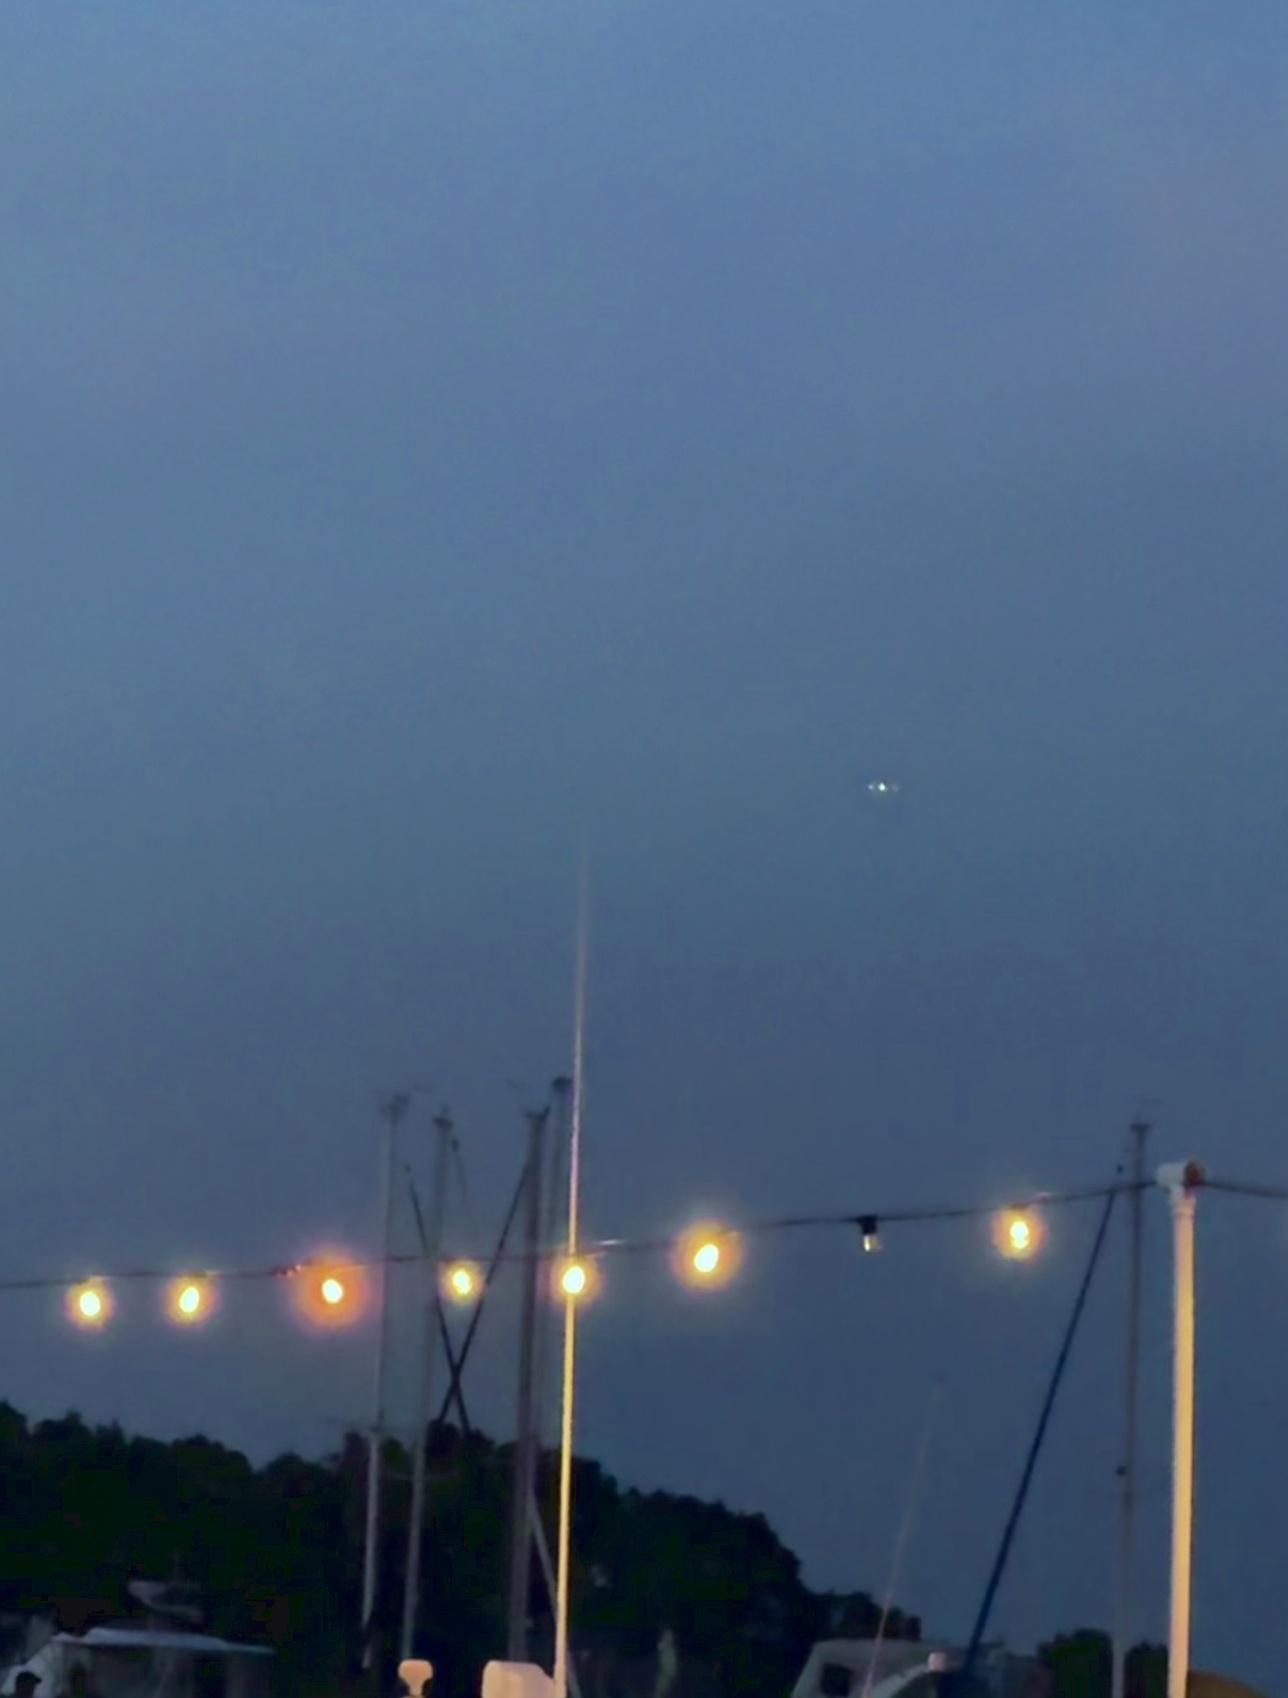Plane: (836, 763, 931, 812)
